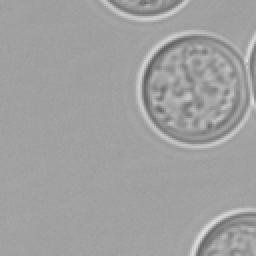picoshell: (134, 30, 252, 148), (188, 208, 254, 254), (100, 0, 188, 20), (244, 32, 254, 108)
